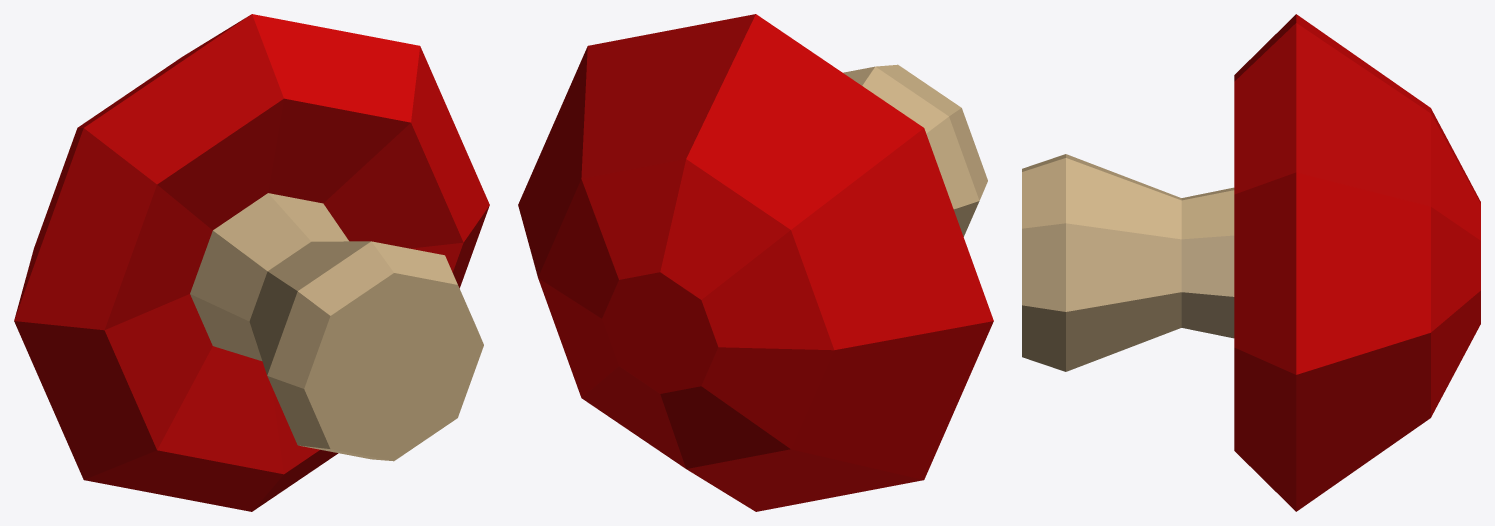
The model's file is mushroom_2.fbx.
3 renders of one model, left to right at view 1: azimuth 30°, elevation 25°; view 2: azimuth 150°, elevation 25°; view 3: azimuth 270°, elevation 25°, orthographic. The views are drawn at different scales.
Parts seen in each view (by area): view 1: mushroom_2; view 2: mushroom_2; view 3: mushroom_2.
Boxes of the visible parts, x1=… form: mushroom_2: x1=14, y1=14, x2=489, y2=511; mushroom_2: x1=518, y1=14, x2=993, y2=511; mushroom_2: x1=1022, y1=14, x2=1480, y2=511.
Size of the model in its own units: 62.47 by 62.47 by 54.1.
